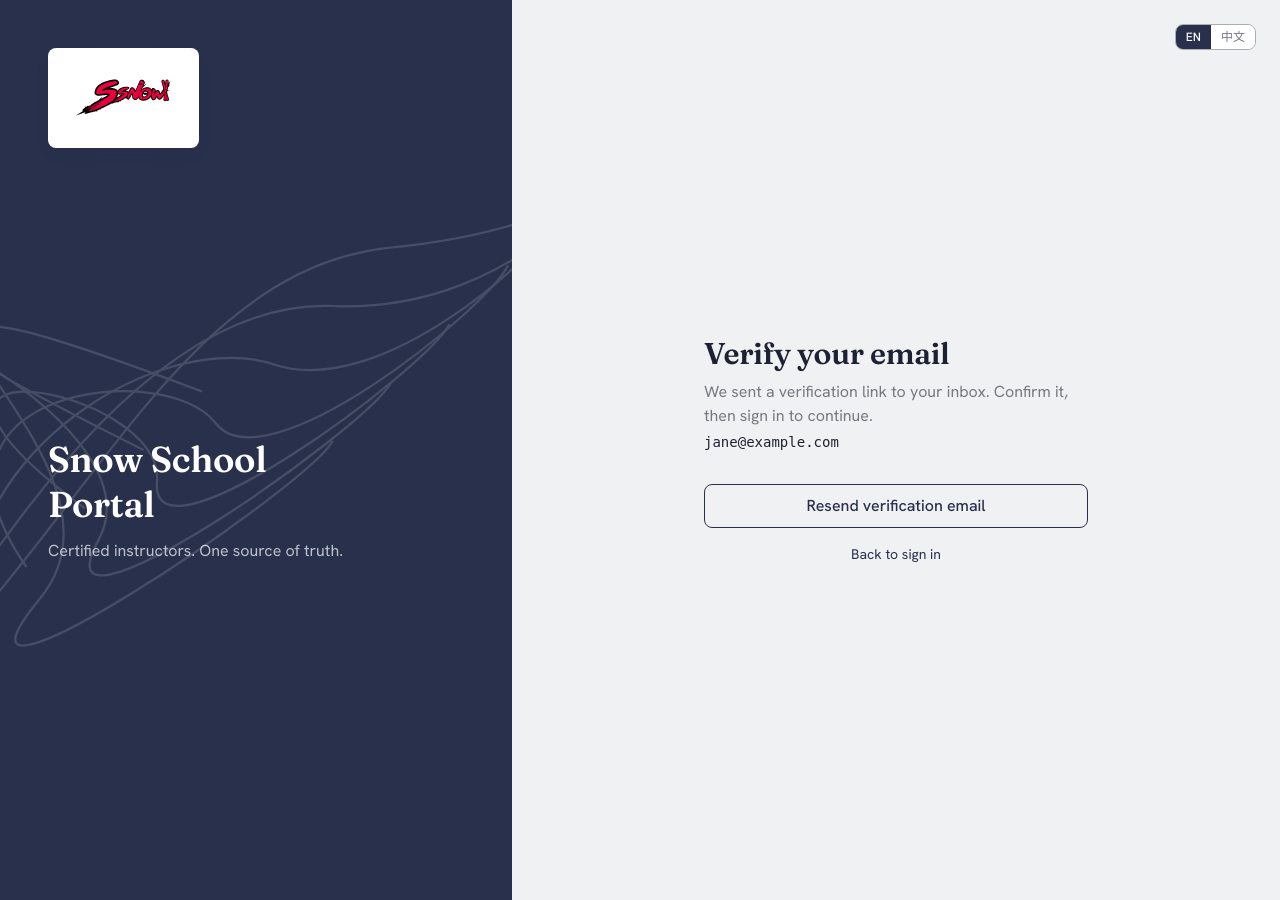
Test: VerifyEmailPage › resends without starting a countdown of its own
Click the button named "Resend verification email": click(896, 506) x1=704 y1=484 x2=1088 y2=528
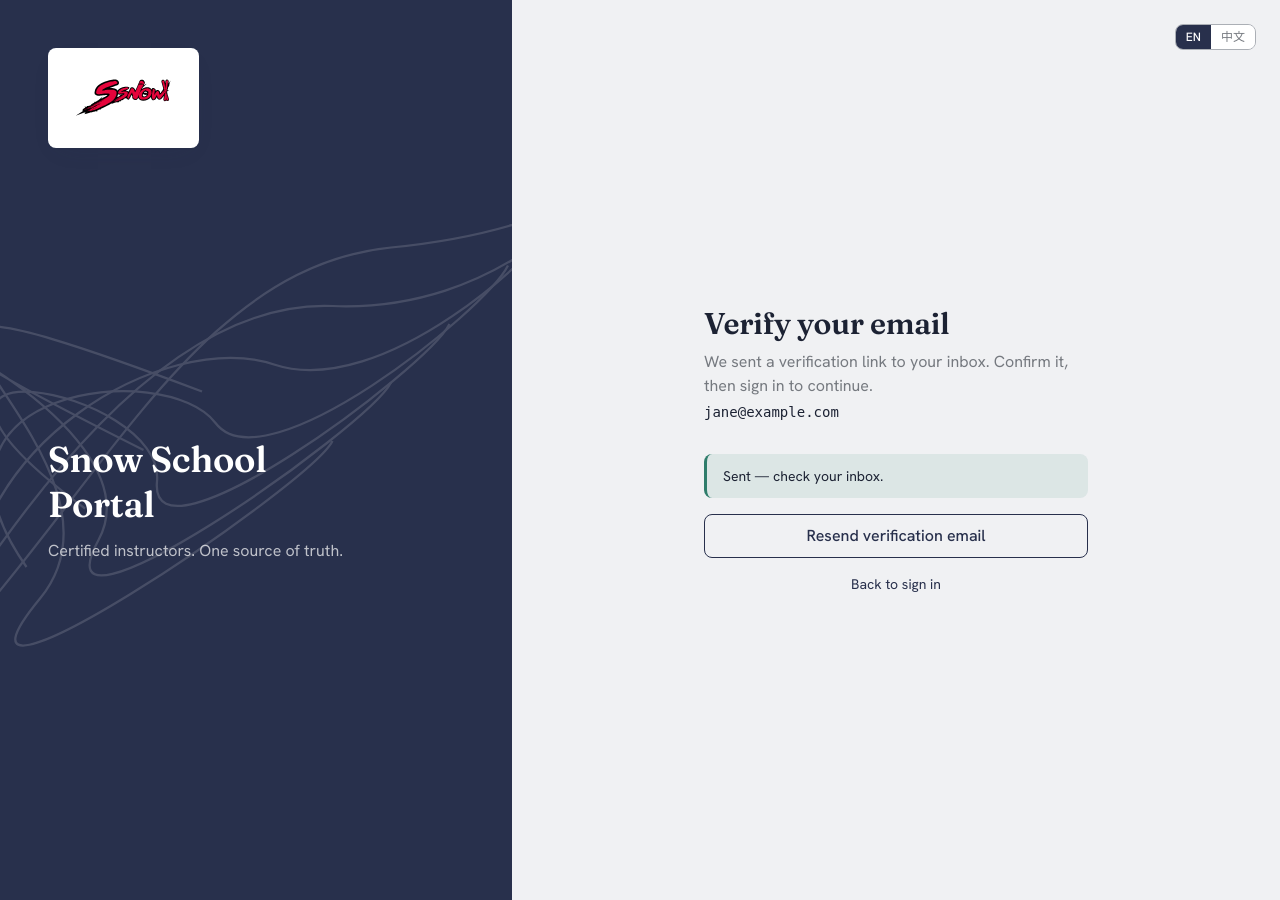
Expected: the button named "Resend verification email" is enabled, x1=704 y1=514 x2=1088 y2=558
Expected: the text "Sent — check your inbox." is shown, x1=723 y1=467 x2=884 y2=485
